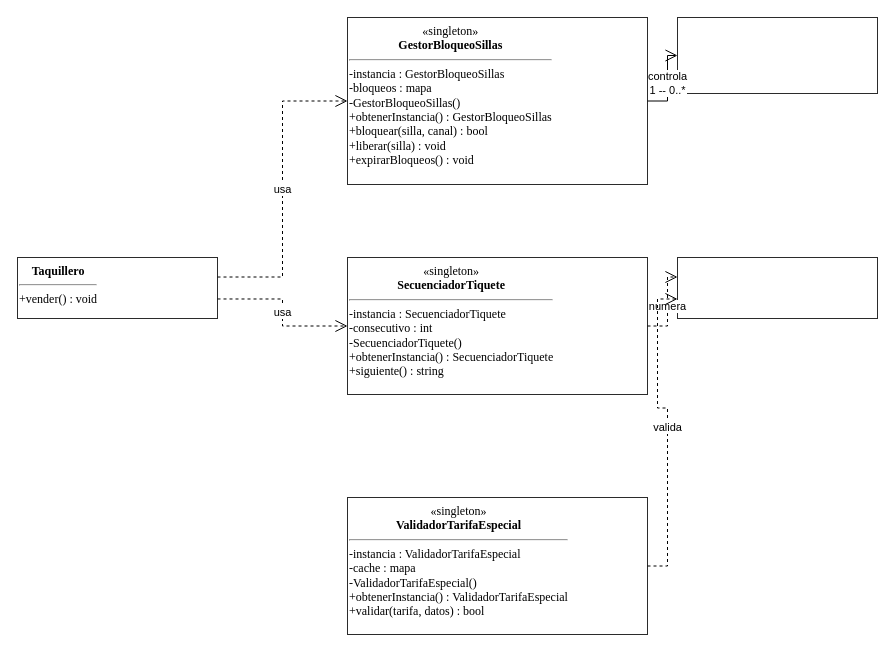
Some shapes in this 895 by 652 pixel diagram are drawn without their labels. The shapes that lost their labels are listed below. From the top down, each one's centre as x and y in pixels, then its label:
At (x=777, y=55): "Silla -numero : int -estado : string".
At (x=777, y=287): "Tiquete -numero : string".
